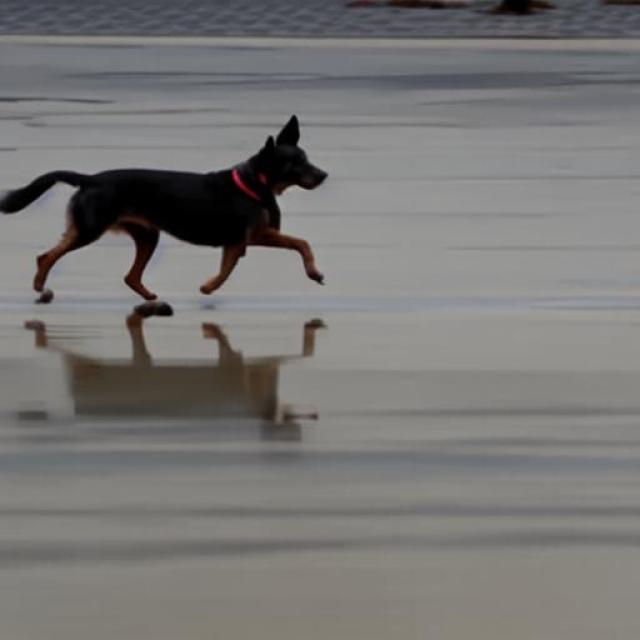Dog: (0, 115, 331, 305)
